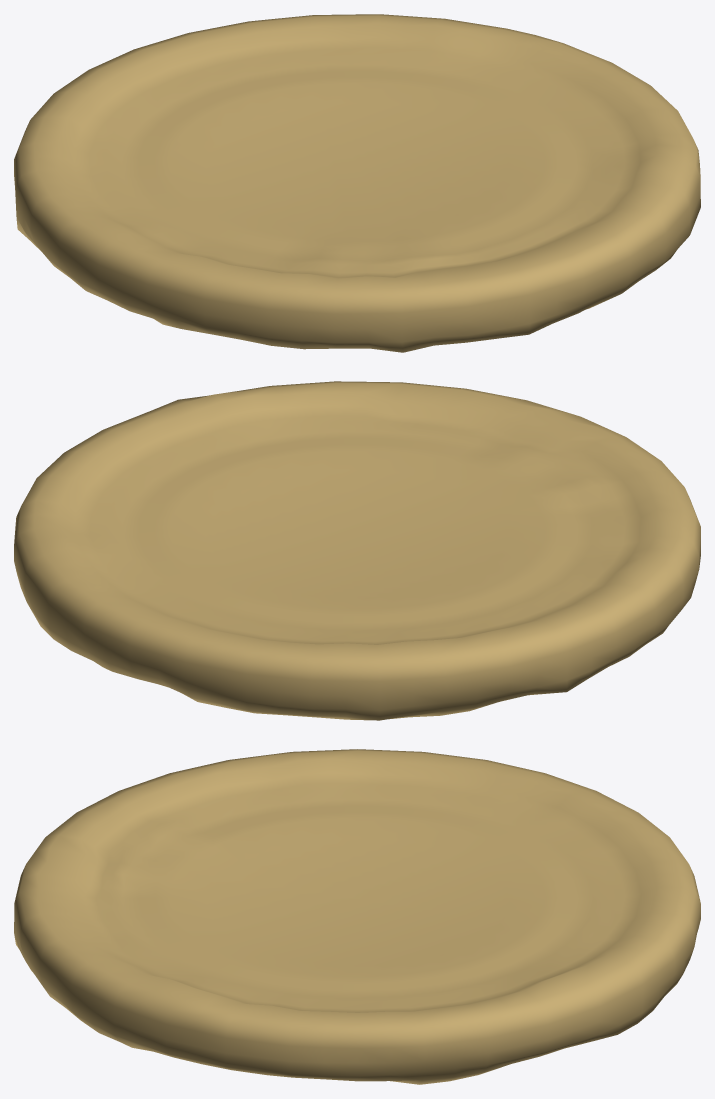
The model's file is PitsaPohja_toSubstance.fbx.
3 views of the same model, one above another, from view 1: azimuth 30°, elevation 25°; view 2: azimuth 150°, elevation 25°; view 3: azimuth 270°, elevation 25° (orthographic).
Visible parts, largest first — view 1: Pitsa; view 2: Pitsa; view 3: Pitsa.
Part boxes in pixels (bbox=[...]): Pitsa: bbox=[14, 14, 700, 352]; Pitsa: bbox=[14, 381, 700, 720]; Pitsa: bbox=[14, 749, 700, 1084].
Bounding box in the file's own units: 199 × 22.84 × 200.
